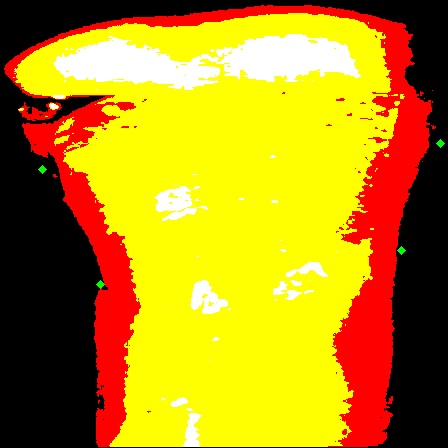coin_1: (100, 284, 120, 304)
coin_2: (42, 169, 62, 189)
coin_3: (401, 250, 421, 270)
coin_4: (440, 143, 448, 163)
